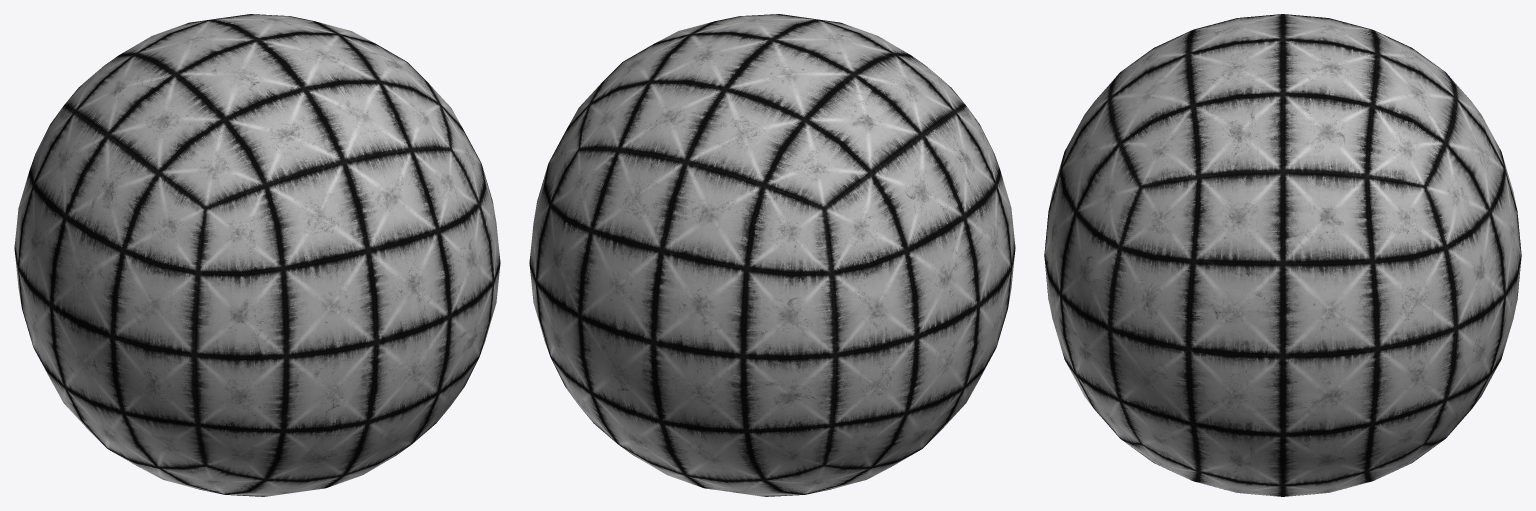
The model's file is 1.break.fbx.
The picture shows the model from 3 angles, left to right: view 1: azimuth 30°, elevation 25°; view 2: azimuth 150°, elevation 25°; view 3: azimuth 270°, elevation 25°; orthographic projection.
Visible parts, largest first — view 1: 1.break.004, 1.break.009, 1.break.008, 1.break.007, 1.break.011, 1.break.010, 1.break.005, 1.break.015, 1.break.014, 1.break.012, 1.break.003, 1.break (+1 smaller); view 2: 1.break.016, 1.break.003, 1.break.011, 1.break.015, 1.break.017, 1.break.008, 1.break.012, 1.break.005, 1.break.009, 1.break, 1.break.006, 1.break.004; view 3: 1.break.012, 1.break.014, 1.break.007, 1.break.006, 1.break.009, 1.break.003, 1.break.005, 1.break.016, 1.break.001, 1.break.010, 1.break.
Boxes of the visible parts, x1,y1,x2,y2 form: 1.break.004: (99, 224, 379, 490); 1.break.009: (207, 68, 445, 285); 1.break.008: (46, 61, 225, 284); 1.break.007: (364, 122, 491, 353); 1.break.011: (14, 183, 119, 441); 1.break.010: (234, 347, 453, 495); 1.break.005: (211, 16, 418, 101); 1.break.015: (23, 45, 177, 192); 1.break.014: (429, 192, 500, 371); 1.break.012: (238, 14, 459, 123); 1.break.003: (75, 18, 219, 91); 1.break: (177, 18, 221, 73); 1.break.016: (534, 231, 871, 431); 1.break.003: (560, 82, 806, 301); 1.break.011: (847, 214, 1009, 429); 1.break.015: (798, 78, 922, 317); 1.break.017: (586, 399, 948, 496); 1.break.008: (830, 56, 1005, 227); 1.break.012: (531, 22, 711, 256); 1.break.005: (697, 15, 831, 92); 1.break.009: (758, 14, 955, 92); 1.break: (709, 52, 846, 88); 1.break.006: (529, 250, 602, 429); 1.break.004: (943, 127, 1015, 427); 1.break.012: (1170, 68, 1470, 335); 1.break.014: (1056, 277, 1336, 441); 1.break.007: (1044, 177, 1381, 378); 1.break.006: (1219, 321, 1474, 496); 1.break.009: (1053, 19, 1245, 193); 1.break.003: (1335, 25, 1514, 248); 1.break.005: (1180, 22, 1386, 145); 1.break.016: (1435, 188, 1521, 394); 1.break.001: (1080, 368, 1264, 491); 1.break.010: (1045, 265, 1112, 429); 1.break: (1267, 17, 1380, 64).
Size of the model in its own units: 100 by 100 by 100.
